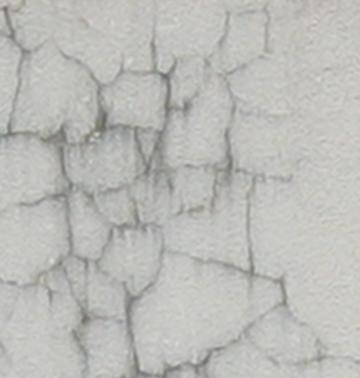fissura: (0, 3, 339, 378)
